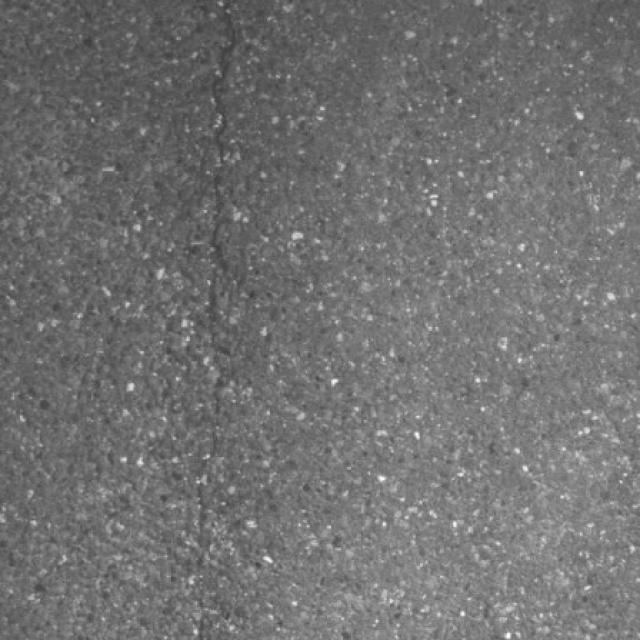Vertical Crack: (197, 2, 245, 610)
